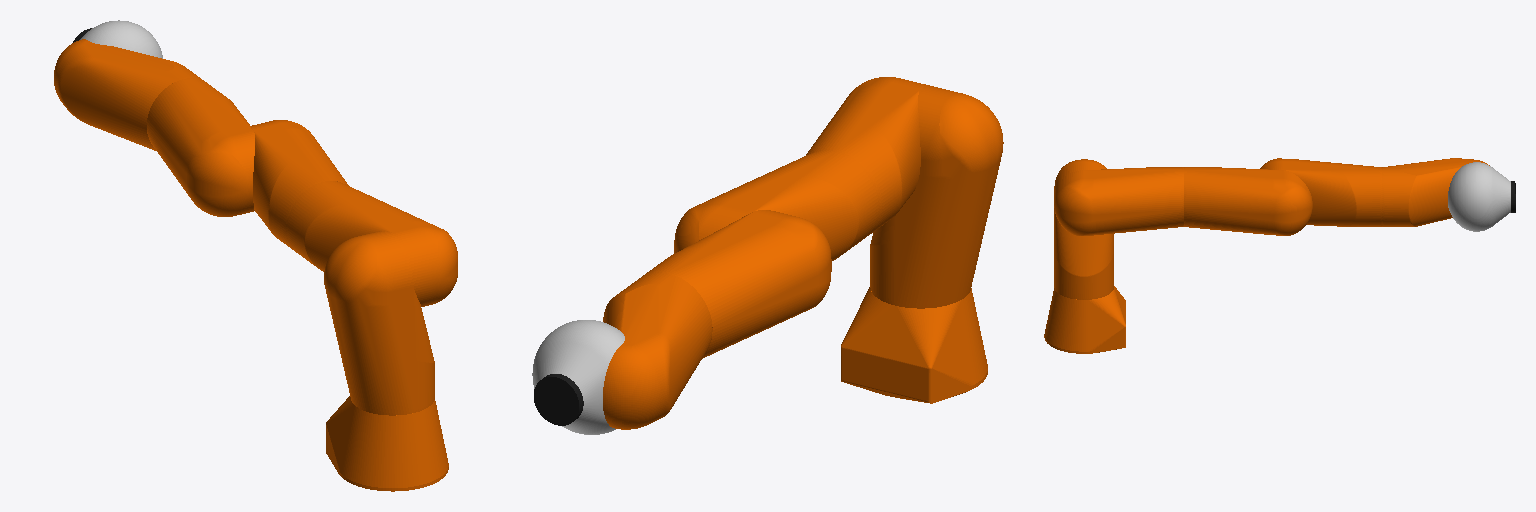
The robot description file, URDF, robot "kuka_lwr4":
<?xml version="1.0" ?>
<!-- =================================================================================== -->
<!-- |    This document was autogenerated by xacro from lwr4.xacro                     | -->
<!-- |    EDITING THIS FILE BY HAND IS NOT RECOMMENDED                                 | -->
<!-- =================================================================================== -->
<robot name="kuka_lwr4" xmlns:xacro="http://ros.org/wiki/xacro">
  <link name="base_link">
    <visual>
      <origin rpy="0 0 0" xyz="0 0 0.0"/>
      <geometry>
        <mesh filename="package://kuka_lwr4_support_armhf/meshes/lwr4/visual/base_link.dae" scale="0.001 0.001 0.001"/>
      </geometry>
      <material name="">
        <color rgba="0.91 0.443 0.031 1.0"/>
      </material>
    </visual>
    <collision>
      <origin rpy="0 0 0" xyz="0 0 0"/>
      <geometry>
        <mesh filename="package://kuka_lwr4_support_armhf/meshes/lwr4/collision/base_link.dae" scale="0.001 0.001 0.001"/>
      </geometry>
    </collision>
  </link>
  <link name="link_1">
    <visual>
      <origin rpy="0 0 0" xyz="0 0 0.0"/>
      <geometry>
        <mesh filename="package://kuka_lwr4_support_armhf/meshes/lwr4/visual/link_1.dae" scale="0.001 0.001 0.001"/>
      </geometry>
      <material name="">
        <color rgba="0.91 0.443 0.031 1.0"/>
      </material>
    </visual>
    <collision>
      <origin rpy="0 0 0" xyz="0 0 0.0"/>
      <geometry>
        <mesh filename="package://kuka_lwr4_support_armhf/meshes/lwr4/collision/link_1.dae" scale="0.001 0.001 0.001"/>
      </geometry>
    </collision>
  </link>
  <link name="link_2">
    <visual>
      <origin rpy="0 0 0" xyz="0 0 0.0"/>
      <geometry>
        <mesh filename="package://kuka_lwr4_support_armhf/meshes/lwr4/visual/link_2.dae" scale="0.001 0.001 0.001"/>
      </geometry>
      <material name="">
        <color rgba="0.91 0.443 0.031 1.0"/>
      </material>
    </visual>
    <collision>
      <origin rpy="0 0 0" xyz="0 0 0.0"/>
      <geometry>
        <mesh filename="package://kuka_lwr4_support_armhf/meshes/lwr4/collision/link_2.dae" scale="0.001 0.001 0.001"/>
      </geometry>
    </collision>
  </link>
  <link name="link_3">
    <visual>
      <origin rpy="0 0 0" xyz="0 0 0.0"/>
      <geometry>
        <mesh filename="package://kuka_lwr4_support_armhf/meshes/lwr4/visual/link_3.dae" scale="0.001 0.001 0.001"/>
      </geometry>
      <material name="">
        <color rgba="0.91 0.443 0.031 1.0"/>
      </material>
    </visual>
    <collision>
      <origin rpy="0 0 0" xyz="0 0 0.0"/>
      <geometry>
        <mesh filename="package://kuka_lwr4_support_armhf/meshes/lwr4/collision/link_3.dae" scale="0.001 0.001 0.001"/>
      </geometry>
    </collision>
  </link>
  <link name="link_4">
    <visual>
      <origin rpy="0 0 0" xyz="0 0 0.0"/>
      <geometry>
        <mesh filename="package://kuka_lwr4_support_armhf/meshes/lwr4/visual/link_4.dae" scale="0.001 0.001 0.001"/>
      </geometry>
      <material name="">
        <color rgba="0.91 0.443 0.031 1.0"/>
      </material>
    </visual>
    <collision>
      <origin rpy="0 0 0" xyz="0 0 0.0"/>
      <geometry>
        <mesh filename="package://kuka_lwr4_support_armhf/meshes/lwr4/collision/link_4.dae" scale="0.001 0.001 0.001"/>
      </geometry>
    </collision>
  </link>
  <link name="link_5">
    <visual>
      <origin rpy="0 0 0" xyz="0 0 0.0"/>
      <geometry>
        <mesh filename="package://kuka_lwr4_support_armhf/meshes/lwr4/visual/link_5.dae" scale="0.001 0.001 0.001"/>
      </geometry>
      <material name="">
        <color rgba="0.91 0.443 0.031 1.0"/>
      </material>
    </visual>
    <collision>
      <origin rpy="0 0 0" xyz="0 0 0.0"/>
      <geometry>
        <mesh filename="package://kuka_lwr4_support_armhf/meshes/lwr4/collision/link_5.dae" scale="0.001 0.001 0.001"/>
      </geometry>
    </collision>
  </link>
  <link name="link_6">
    <visual>
      <origin rpy="0 0 0" xyz="0 0 0.0"/>
      <geometry>
        <mesh filename="package://kuka_lwr4_support_armhf/meshes/lwr4/visual/link_6.dae" scale="0.001 0.001 0.001"/>
      </geometry>
      <material name="">
        <color rgba="0.8 0.8 0.8 1.0"/>
      </material>
    </visual>
    <collision>
      <origin rpy="0 0 0" xyz="0 0 0.0"/>
      <geometry>
        <mesh filename="package://kuka_lwr4_support_armhf/meshes/lwr4/collision/link_6.dae" scale="0.001 0.001 0.001"/>
      </geometry>
    </collision>
  </link>
  <link name="link_7">
    <visual>
      <origin rpy="0 0 0" xyz="0 0 0.0"/>
      <geometry>
        <mesh filename="package://kuka_lwr4_support_armhf/meshes/lwr4/visual/link_7.dae" scale="0.001 0.001 0.001"/>
      </geometry>
      <material name="">
        <color rgba="0.15 0.15 0.15 1.0"/>
      </material>
    </visual>
    <collision>
      <origin rpy="0 0 0" xyz="0 0 0.0"/>
      <geometry>
        <mesh filename="package://kuka_lwr4_support_armhf/meshes/lwr4/collision/link_7.dae" scale="0.001 0.001 0.001"/>
      </geometry>
      <material name="">
        <color rgba="0.15 0.15 0.15 1.0"/>
      </material>
    </collision>
  </link>
  <link name="tool0"/>
  <joint name="joint_1" type="revolute">
    <origin rpy="0 0 0" xyz="0 0 0.1105"/>
    <parent link="base_link"/>
    <child link="link_1"/>
    <axis xyz="0 0 1"/>
    <limit effort="200" lower="-2.967" upper="2.967" velocity="1.963"/>
  </joint>
  <joint name="joint_2" type="revolute">
    <origin rpy="-1.57 0 0" xyz="0.0 0 0.200"/>
    <parent link="link_1"/>
    <child link="link_2"/>
    <axis xyz="1 0 0"/>
    <limit effort="200" lower="-0.524" upper="3.49" velocity="1.963"/>
  </joint>
  <joint name="joint_3" type="revolute">
    <origin rpy="0 0 0" xyz="0 0 0.200"/>
    <parent link="link_2"/>
    <child link="link_3"/>
    <axis xyz="0 0 1"/>
    <limit effort="100" lower="-2.967" upper="2.967" velocity="1.963"/>
  </joint>
  <joint name="joint_4" type="revolute">
    <origin rpy="0 0 0" xyz="0 0 0.200"/>
    <parent link="link_3"/>
    <child link="link_4"/>
    <axis xyz="-1 0 0"/>
    <limit effort="100" lower="-2.094" upper="2.094" velocity="1.963"/>
  </joint>
  <joint name="joint_5" type="revolute">
    <origin rpy="0 0 0" xyz="0 0 0.200"/>
    <parent link="link_4"/>
    <child link="link_5"/>
    <axis xyz="0 0 1"/>
    <limit effort="100" lower="-2.967" upper="2.967" velocity="3.141"/>
  </joint>
  <joint name="joint_6" type="revolute">
    <origin rpy="0 0 0" xyz="0 0 0.190"/>
    <parent link="link_5"/>
    <child link="link_6"/>
    <axis xyz="1 0 0"/>
    <limit effort="30" lower="-2.094" upper="2.094" velocity="1.963"/>
  </joint>
  <joint name="joint_7" type="revolute">
    <origin rpy="0 0 0" xyz="0 0 0.068"/>
    <parent link="link_6"/>
    <child link="link_7"/>
    <axis xyz="0 0 1"/>
    <limit effort="30" lower="-2.967" upper="2.967" velocity="1.963"/>
  </joint>
  <joint name="joint_7-tool0" type="fixed">
    <origin rpy="0 -1.57 0" xyz="0 0 0.01"/>
    <parent link="link_7"/>
    <child link="tool0"/>
  </joint>
</robot>

--- Render facts (derived) ---
The picture shows the robot from 3 angles, left to right: view 1: azimuth 30°, elevation 25°; view 2: azimuth 150°, elevation 25°; view 3: azimuth 270°, elevation 25°; orthographic projection.
Robot: kuka_lwr4 — 9 links, 8 joints (7 revolute, 1 fixed); root link base_link; default pose: every joint at zero.
Visible links, largest first — view 1: link_1, link_4, link_2, link_5, base_link, link_3, link_6; view 2: link_1, link_4, base_link, link_5, link_3, link_2, link_6, link_7; view 3: link_2, link_3, link_4, link_5, link_1, base_link, link_6.
Link boxes in pixels (bbox=[...]): link_1: bbox=[324, 231, 434, 415]; link_4: bbox=[147, 78, 254, 216]; link_2: bbox=[287, 181, 457, 306]; link_5: bbox=[54, 39, 206, 150]; base_link: bbox=[326, 396, 448, 491]; link_3: bbox=[251, 120, 348, 252]; link_6: bbox=[80, 20, 162, 58]; link_1: bbox=[870, 86, 1003, 308]; link_4: bbox=[643, 210, 831, 358]; base_link: bbox=[841, 287, 987, 403]; link_5: bbox=[603, 272, 712, 429]; link_3: bbox=[674, 150, 879, 260]; link_2: bbox=[806, 77, 929, 233]; link_6: bbox=[532, 320, 624, 434]; link_7: bbox=[534, 374, 583, 425]; link_2: bbox=[1054, 167, 1183, 235]; link_3: bbox=[1184, 167, 1312, 235]; link_4: bbox=[1260, 158, 1381, 226]; link_5: bbox=[1382, 158, 1489, 226]; link_1: bbox=[1054, 159, 1113, 299]; base_link: bbox=[1044, 286, 1125, 353]; link_6: bbox=[1448, 162, 1510, 231].
Size in the robot's own frame: 0.2026 by 0.948 by 0.3811 metres.
Meshes: 8 distinct files referenced, 8 mesh visuals loaded (8 Collada DAE).